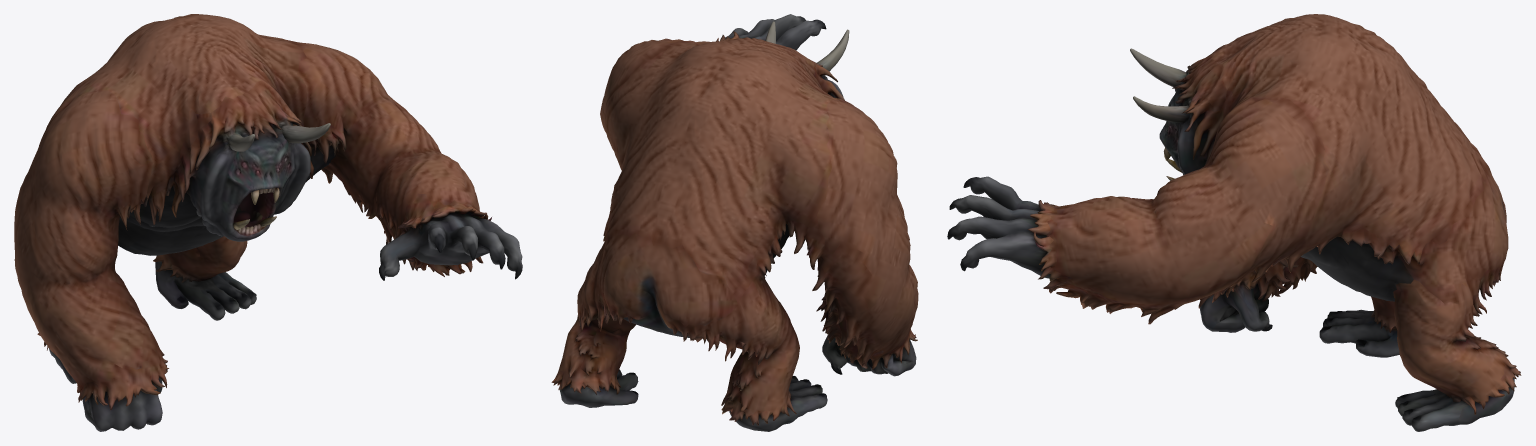
File: MZ4250 - Barlgura_2025_4K.glb
3 renders of one model, left to right at view 1: azimuth 30°, elevation 25°; view 2: azimuth 150°, elevation 25°; view 3: azimuth 270°, elevation 25°, orthographic. The views are drawn at different scales.
Visible parts, largest first — view 1: ORGANIC BASE SPHERE.001; view 2: ORGANIC BASE SPHERE.001; view 3: ORGANIC BASE SPHERE.001.
Boxes of the visible parts, x1,y1,x2,y2 form: ORGANIC BASE SPHERE.001: [14, 14, 522, 431]; ORGANIC BASE SPHERE.001: [551, 14, 918, 431]; ORGANIC BASE SPHERE.001: [947, 14, 1521, 431].
Size of the model in its own units: 150 by 139 by 203.
Materials: 1 (1 with a texture image).
